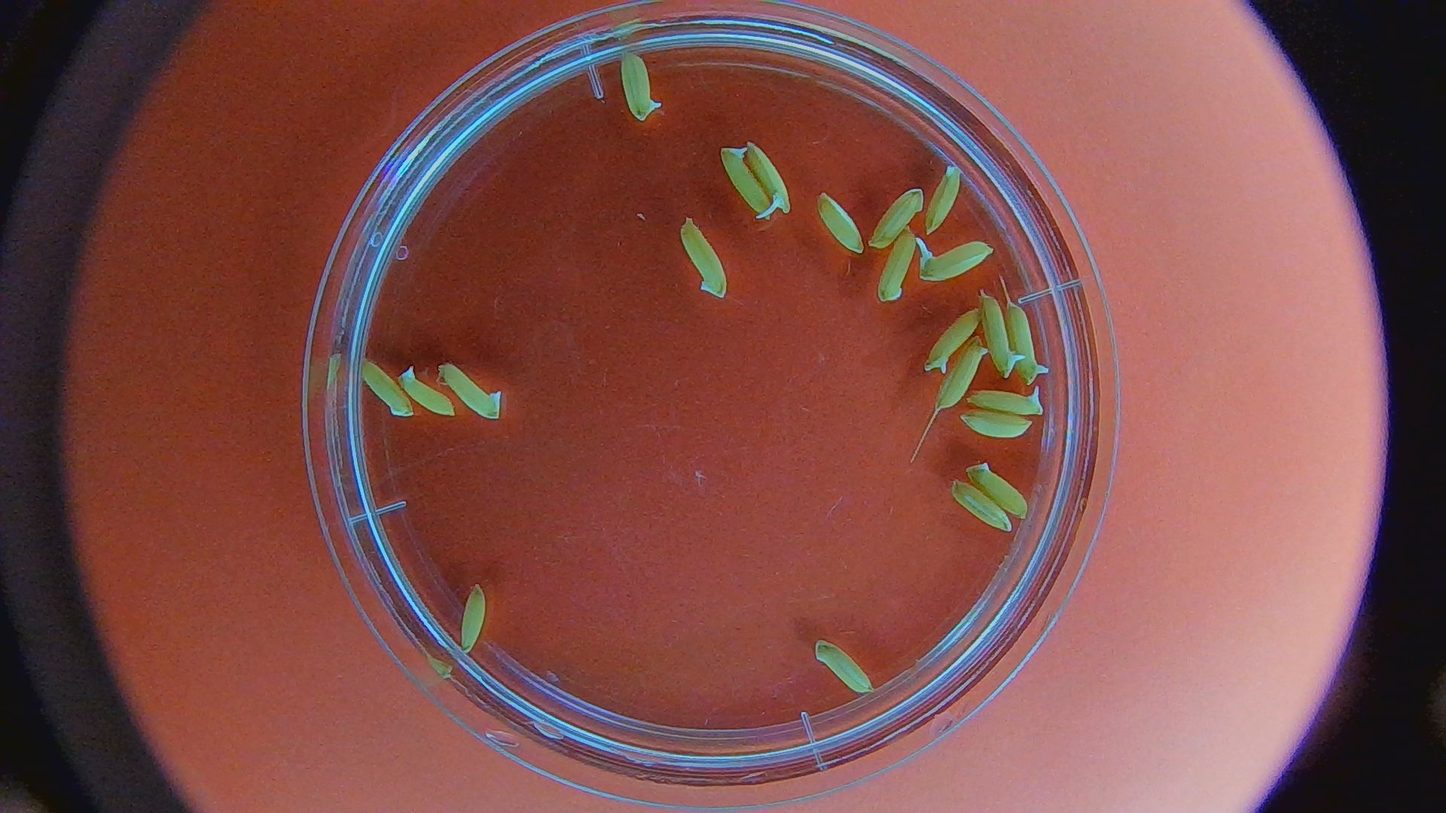no: (936, 339, 993, 411), (437, 361, 503, 422), (965, 462, 1028, 519), (682, 219, 725, 300), (868, 187, 922, 250), (816, 639, 875, 696), (818, 189, 867, 255), (953, 480, 1013, 532), (400, 367, 458, 418), (621, 50, 663, 120), (364, 364, 415, 419), (877, 227, 915, 300), (923, 166, 961, 236), (458, 582, 487, 657), (965, 410, 1031, 438)
yes: (919, 309, 981, 385), (980, 297, 1027, 376), (1009, 299, 1052, 385), (914, 237, 996, 281), (723, 153, 773, 219), (749, 145, 792, 217), (970, 384, 1045, 416)
